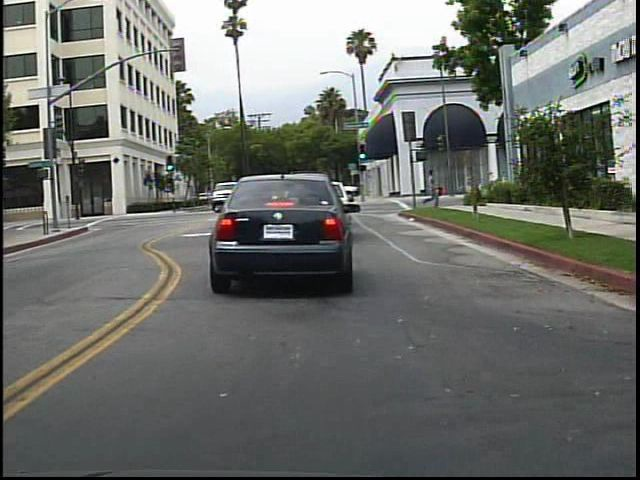person: (420, 166, 444, 214)
